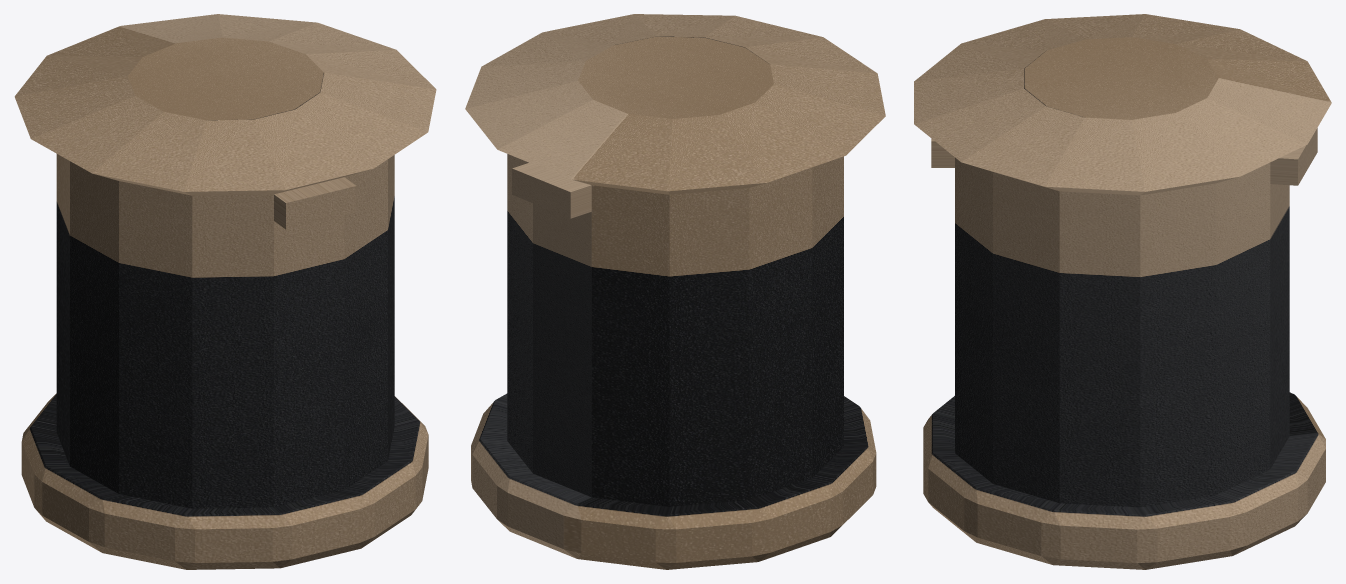
The model's file is lixo.obj.
3 renders of one model, left to right at view 1: azimuth 30°, elevation 25°; view 2: azimuth 150°, elevation 25°; view 3: azimuth 270°, elevation 25°, orthographic.
Parts seen in each view (by area): view 1: Cylinder_Cylinder.001; view 2: Cylinder_Cylinder.001; view 3: Cylinder_Cylinder.001.
Part boxes in pixels (left/top/right/bottom): Cylinder_Cylinder.001: left=14, top=14, right=436, bottom=569; Cylinder_Cylinder.001: left=465, top=14, right=885, bottom=569; Cylinder_Cylinder.001: left=914, top=14, right=1331, bottom=569.
Bounding box in the file's own units: 3.85 × 4.13 × 3.82.
